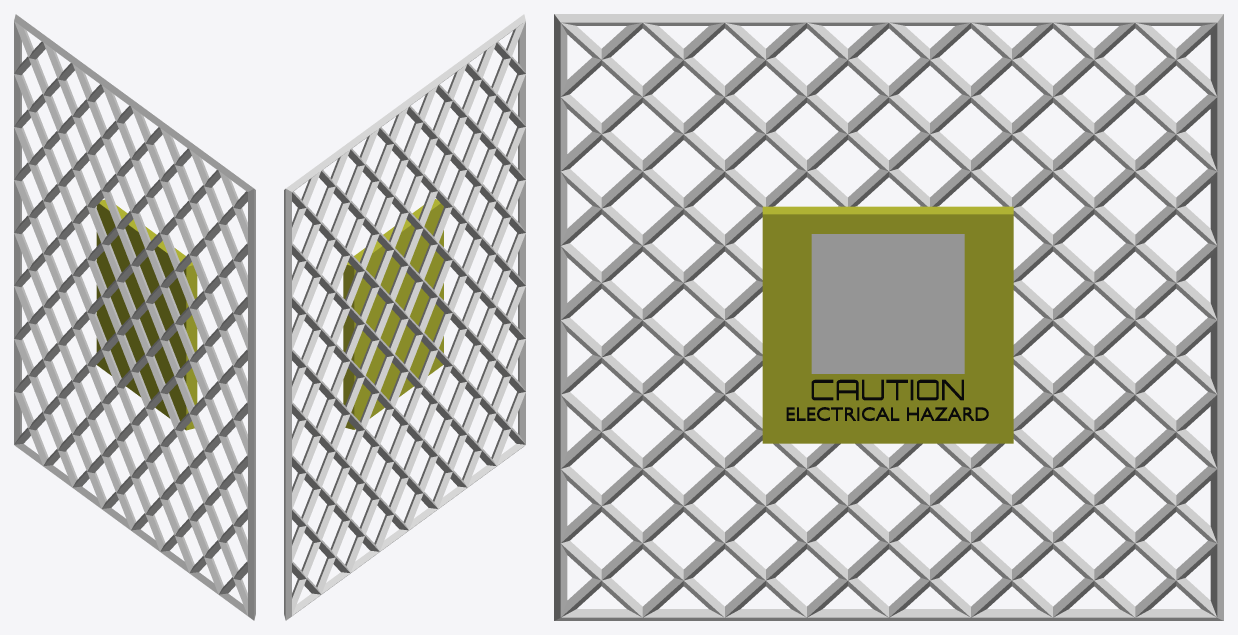
File: electricalWarningwireFence.fbx
3 renders of one model, left to right at view 1: azimuth 30°, elevation 25°; view 2: azimuth 150°, elevation 25°; view 3: azimuth 270°, elevation 25°, orthographic. The views are drawn at different scales.
Visible parts, largest first — view 1: Plane.003, Cube; view 2: Plane.003, Cube; view 3: Plane.003, Cube.
Part boxes in pixels (box(x1,y1,x2,y2)): Plane.003: box(14, 14, 255, 620); Cube: box(96, 199, 197, 430); Plane.003: box(284, 14, 525, 620); Cube: box(343, 199, 443, 429); Plane.003: box(554, 14, 1223, 620); Cube: box(762, 206, 1013, 443).
Size of the model in its own units: 11.72 by 204 by 204.
